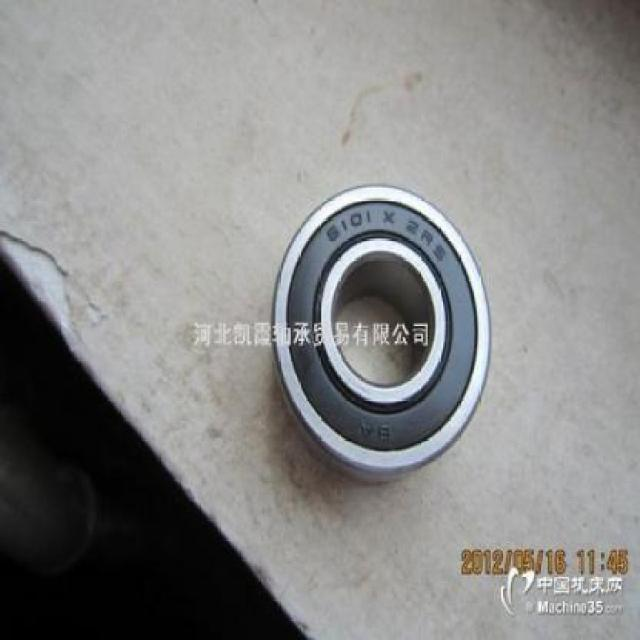Bearing: (270, 182, 494, 482)
